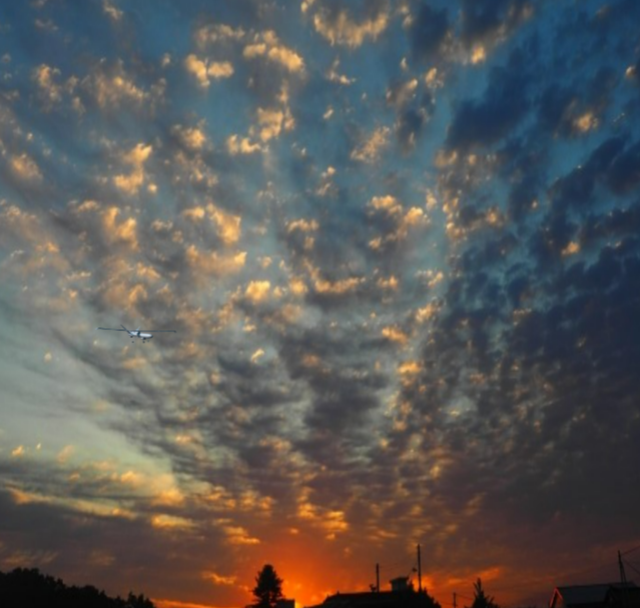military drone: (96, 323, 176, 343)
